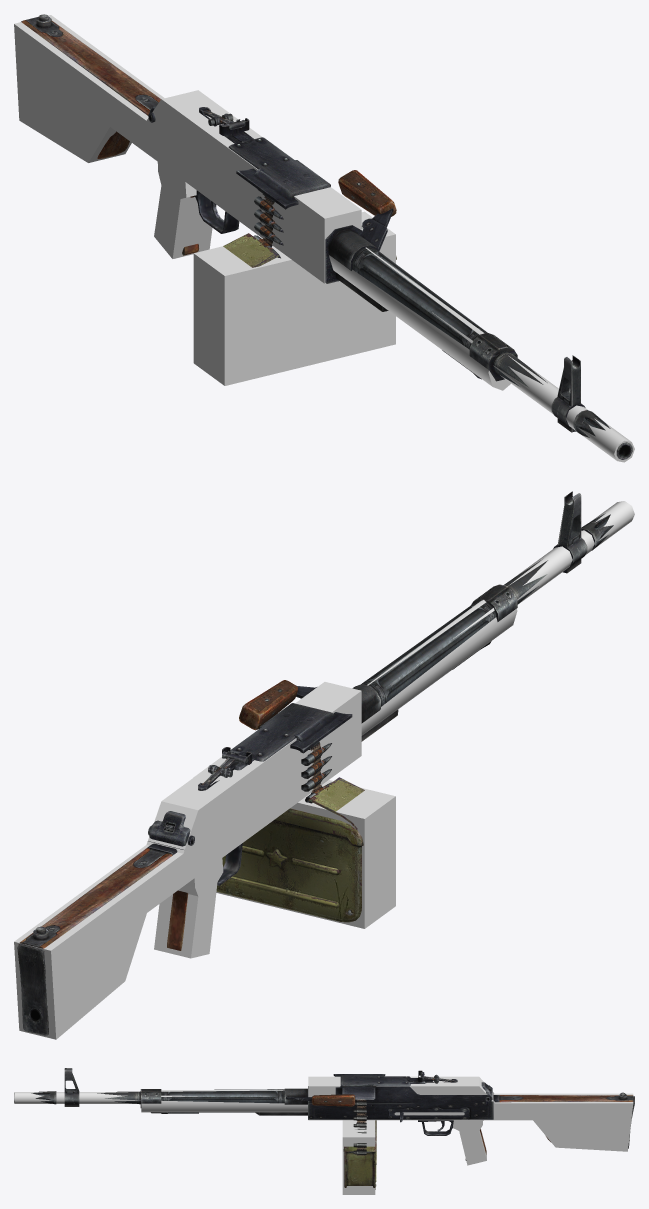
File: pkm.FBX
3 views of the same model, one above another, from view 1: azimuth 30°, elevation 25°; view 2: azimuth 150°, elevation 25°; view 3: azimuth 270°, elevation 25° (orthographic). The views are drawn at different scales.
Parts seen in each view (by area): view 1: lod, wpn_pkm1; view 2: lod, wpn_pkm1; view 3: lod, wpn_pkm1.
Part boxes in pixels (box(x1,y1,x2,y2)): lod: box(14, 15, 634, 462); wpn_pkm1: box(21, 14, 632, 459); lod: box(14, 501, 634, 1039); wpn_pkm1: box(17, 491, 613, 1035); lod: box(14, 1076, 633, 1194); wpn_pkm1: box(14, 1068, 634, 1189).
Size of the model in its own units: 21.2 by 22.13 by 120.
